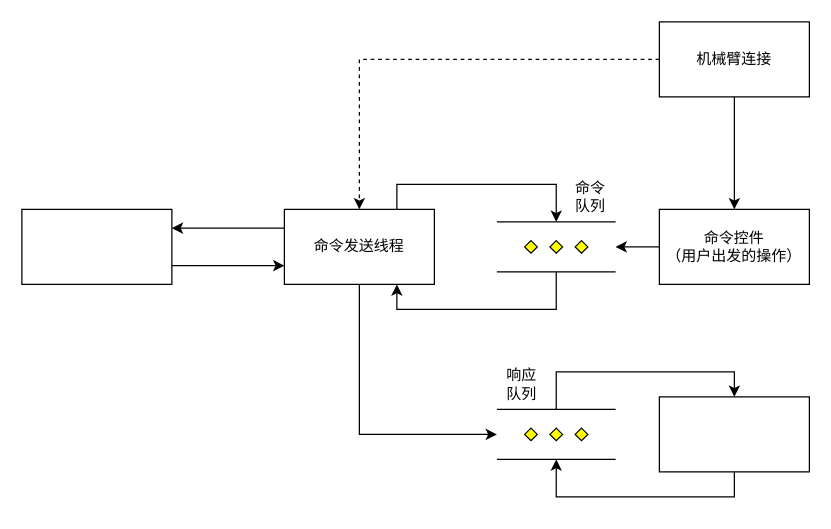
This 831x529 diagram has some shape labels left out. Here are the shapes that lost their labels. From the top down, the centre of each, then its label:
At (96,246): "机械臂".
At (733,434): "解析响应线程".
